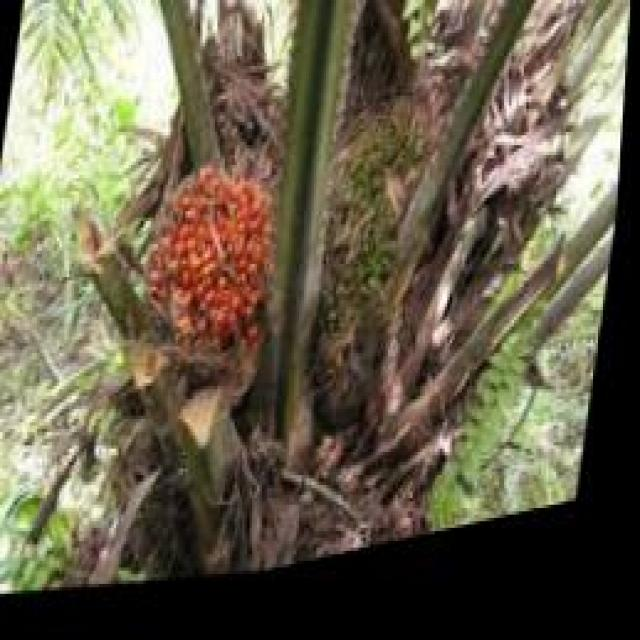Ripefruit: (141, 152, 294, 392)
